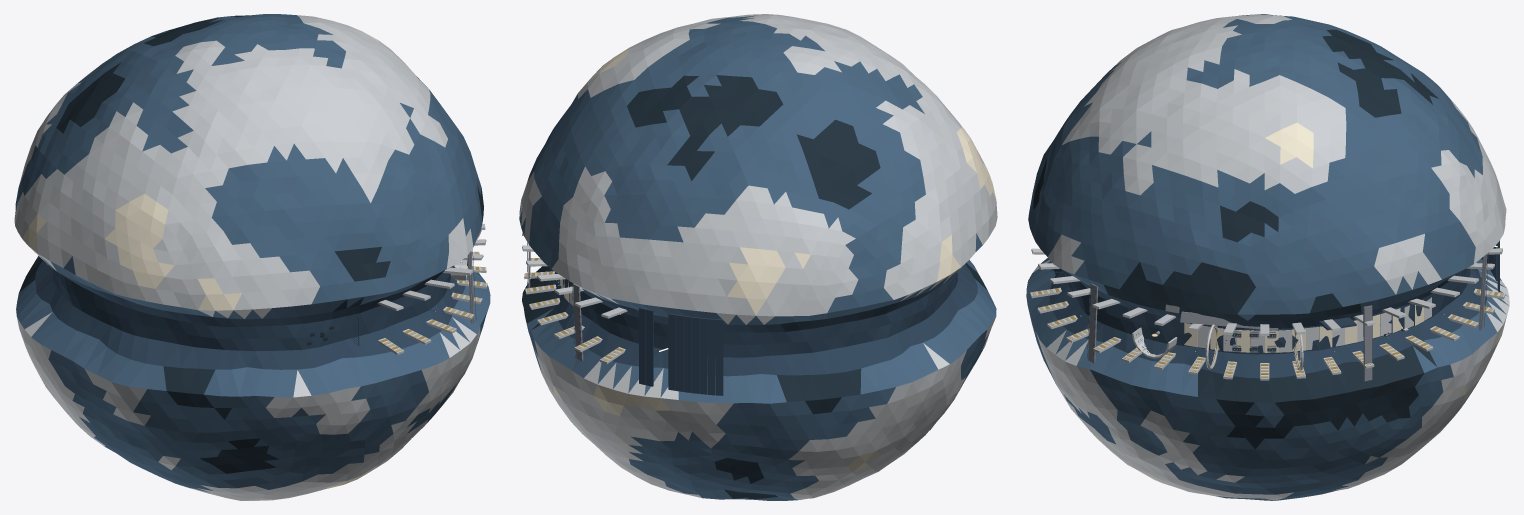
The model's file is archivo.glb.
The picture shows the model from 3 angles, left to right: view 1: azimuth 30°, elevation 25°; view 2: azimuth 150°, elevation 25°; view 3: azimuth 270°, elevation 25°; orthographic projection.
Visible parts, largest first — view 1: archivo_Terreno, archivo_Lugares; view 2: archivo_Terreno, archivo_Lugares; view 3: archivo_Terreno, archivo_Lugares.
Boxes of the visible parts, x1,y1,x2,y2 form: archivo_Terreno: (14, 14, 490, 500); archivo_Lugares: (306, 224, 487, 354); archivo_Terreno: (519, 14, 997, 500); archivo_Lugares: (522, 232, 723, 395); archivo_Terreno: (1026, 14, 1509, 500); archivo_Lugares: (1030, 240, 1505, 381).
Size of the model in its own units: 138 by 140 by 139.
